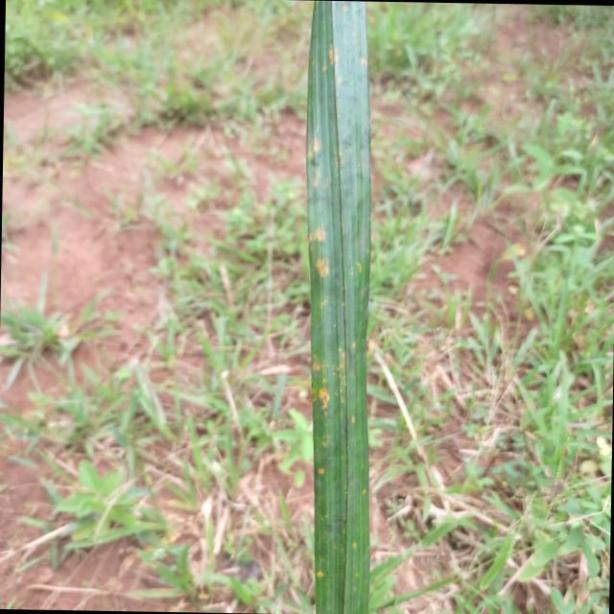Kalium: (308, 3, 373, 614)
